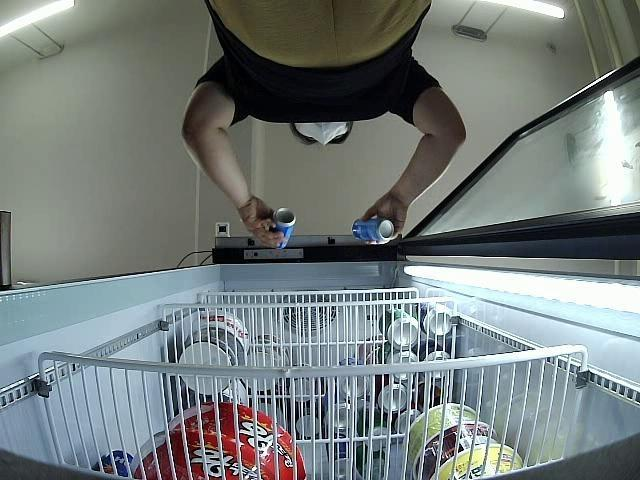15_letsbe: (271, 207, 299, 250), (354, 217, 396, 243)
